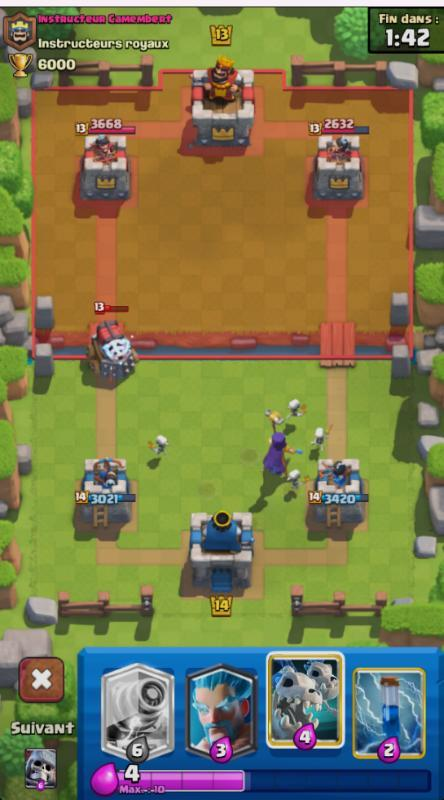enemy_sparky: (81, 312, 140, 381)
player_skeletons: (144, 431, 172, 459), (280, 465, 306, 491), (305, 424, 331, 449), (283, 395, 309, 419)
player_witch: (257, 408, 297, 481)
